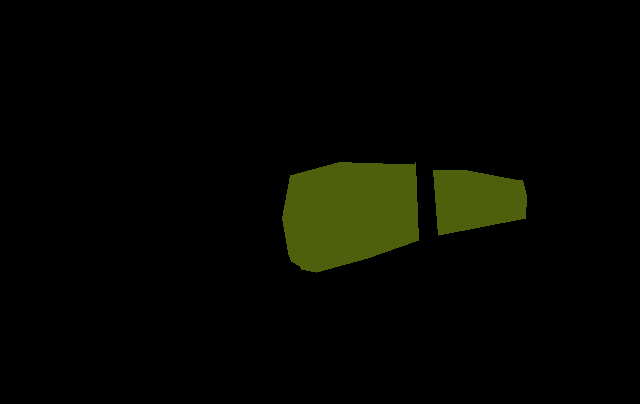Train: (282, 162, 526, 272)
